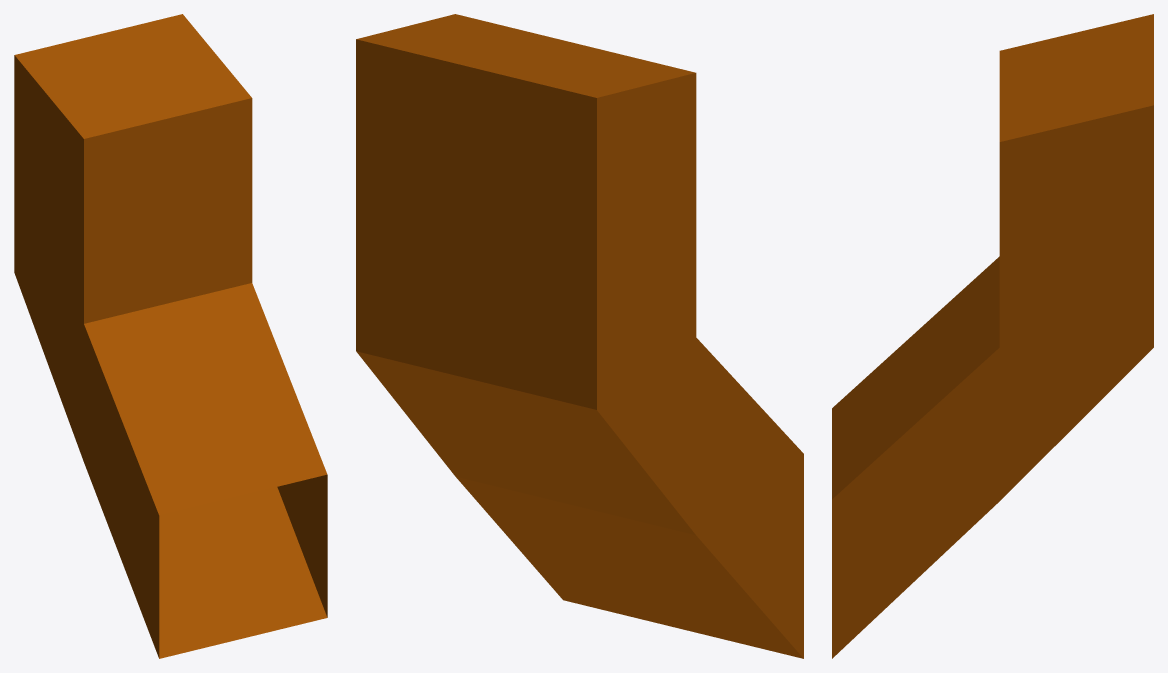
The model's file is Branch2.fbx.
3 renders of one model, left to right at view 1: azimuth 30°, elevation 25°; view 2: azimuth 150°, elevation 25°; view 3: azimuth 270°, elevation 25°, orthographic. The views are drawn at different scales.
Parts seen in each view (by area): view 1: Branch2; view 2: Branch2; view 3: Branch2.
Part boxes in pixels (box(x1,y1,x2,y2)): Branch2: box(14, 14, 327, 658); Branch2: box(356, 14, 803, 658); Branch2: box(832, 14, 1153, 658).
Bounding box in the file's own units: 200 × 566 × 298.
